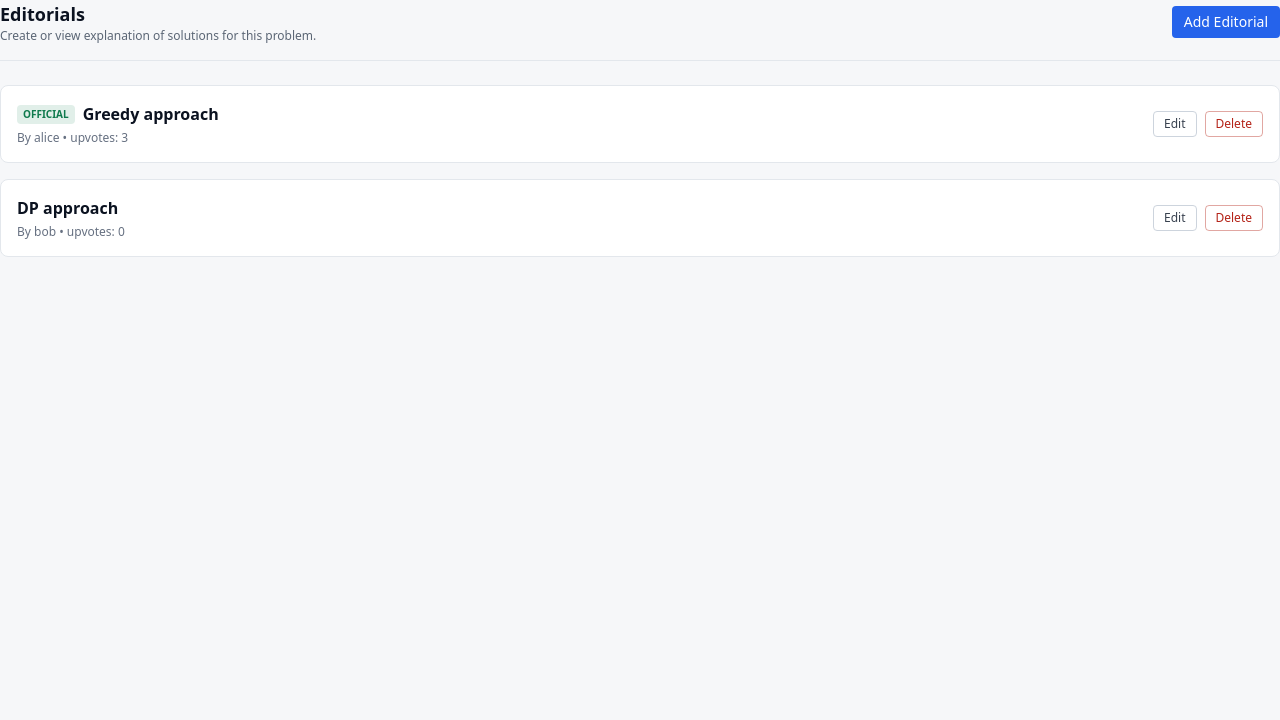
Test: editing loads the full editorial so the body can be prefilled
The image size is (1280, 720).
Check: the heading "Greedy approach" is shown, box [83,102,219,126]
Click the button "Edit" in the row of "Greedy approach". click: x=1175, y=124
box: [1153,111,1196,137]
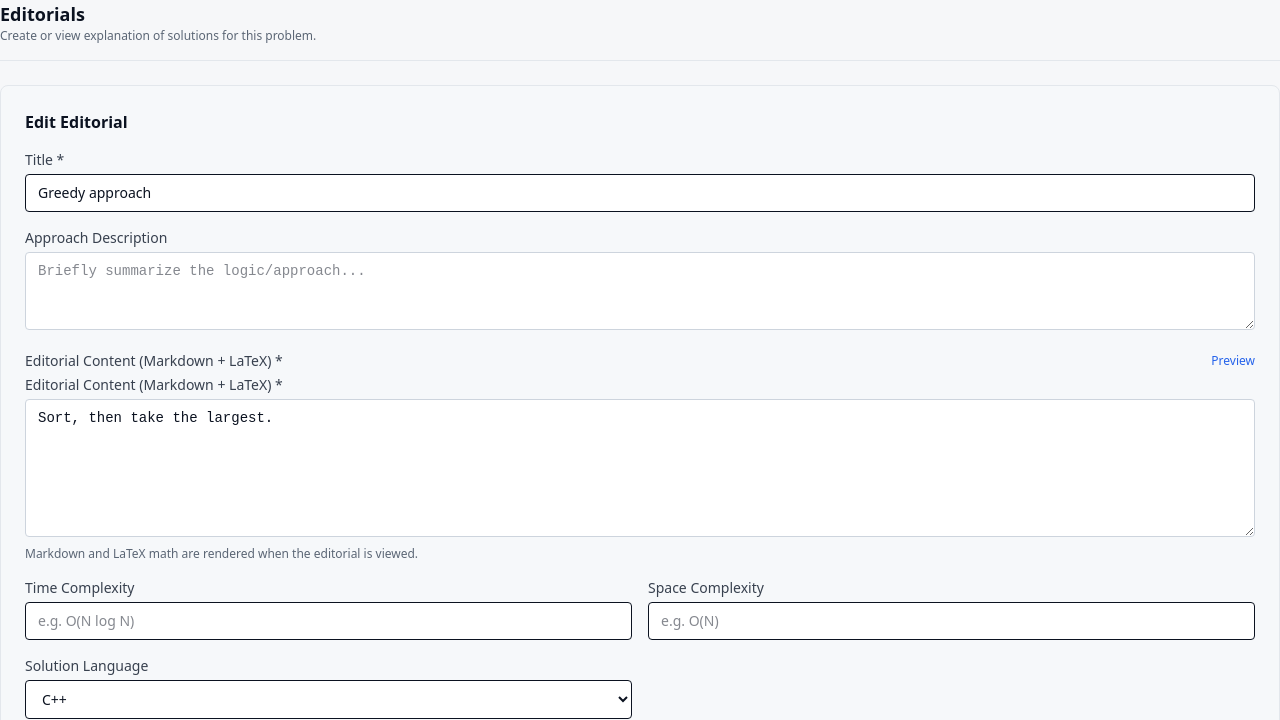
Check: the heading "Edit Editorial" is shown, box [25,111,128,133]
Check: the text box showing "Sort, then take the largest." is shown, box [25,399,1255,537]
